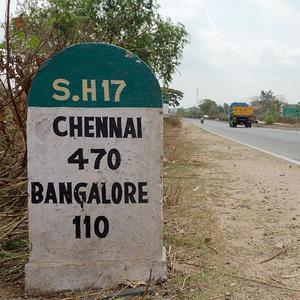kmstone: (25, 39, 171, 294)
